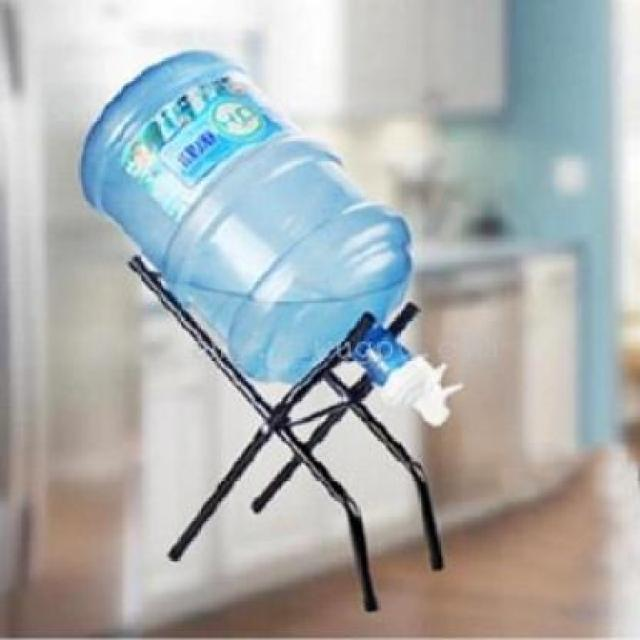coolerbottle: (75, 43, 417, 395)
